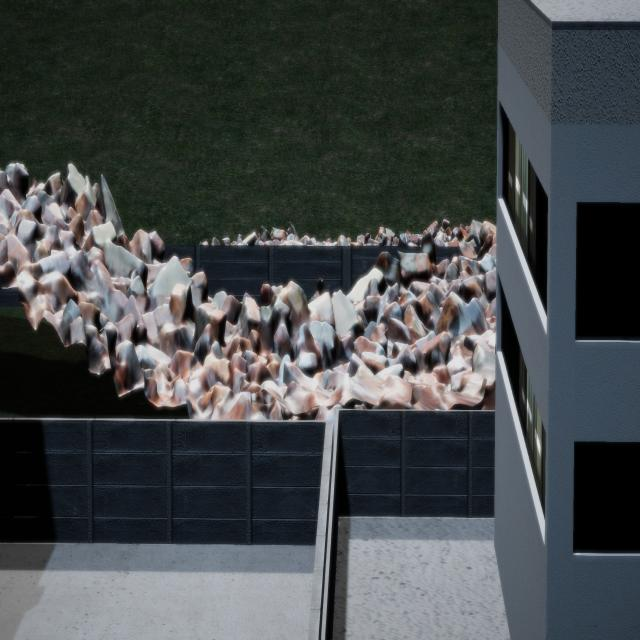Human: (307, 273, 326, 312)
